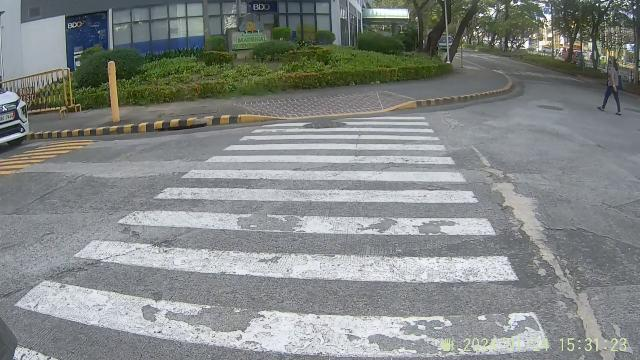car: (0, 87, 28, 156)
